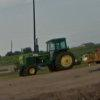Tractor: (17, 33, 81, 79)
